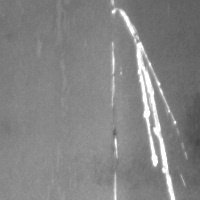inclusion: (51, 1, 73, 48)
scratches: (117, 3, 183, 199), (107, 129, 122, 200), (106, 40, 120, 111)
